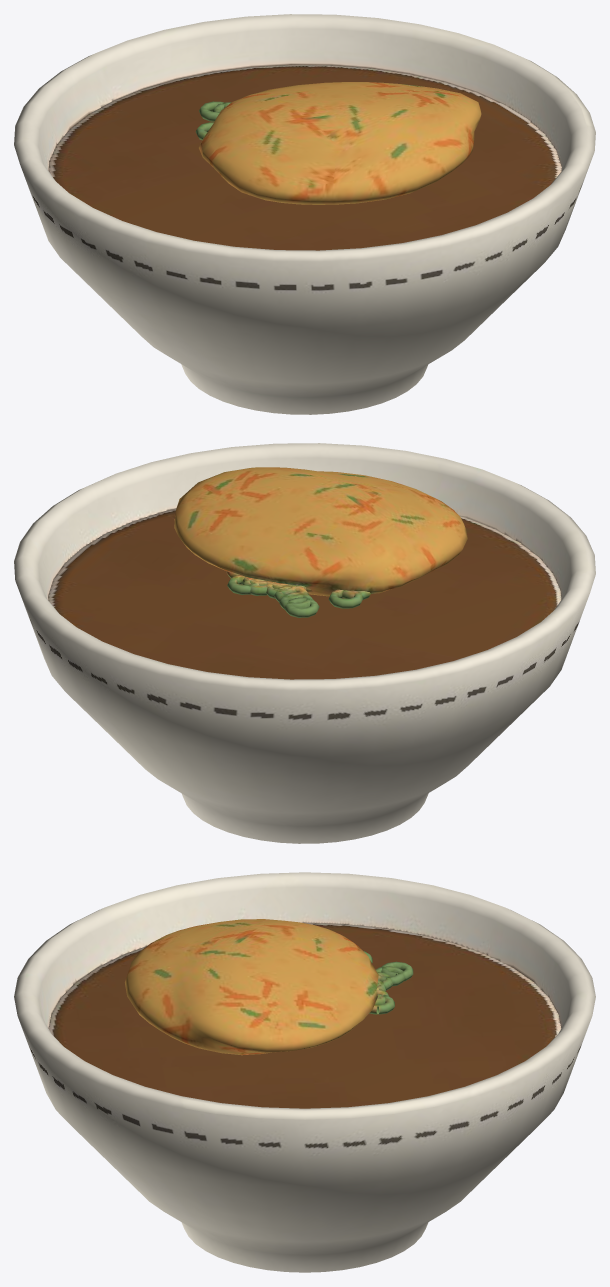
Rendered from soba_nn0.glb.
3 views of the same model, one above another, from view 1: azimuth 30°, elevation 25°; view 2: azimuth 150°, elevation 25°; view 3: azimuth 270°, elevation 25° (orthographic).
Visible parts, largest first — view 1: prop_soba_nn0_felt; view 2: prop_soba_nn0_felt; view 3: prop_soba_nn0_felt.
Part boxes in pixels (bbox=[...]): prop_soba_nn0_felt: bbox=[14, 14, 595, 414]; prop_soba_nn0_felt: bbox=[14, 443, 595, 843]; prop_soba_nn0_felt: bbox=[14, 872, 595, 1272].
Size of the model in its own units: 0.3 by 0.1559 by 0.3.
1 material, 1 textured.
